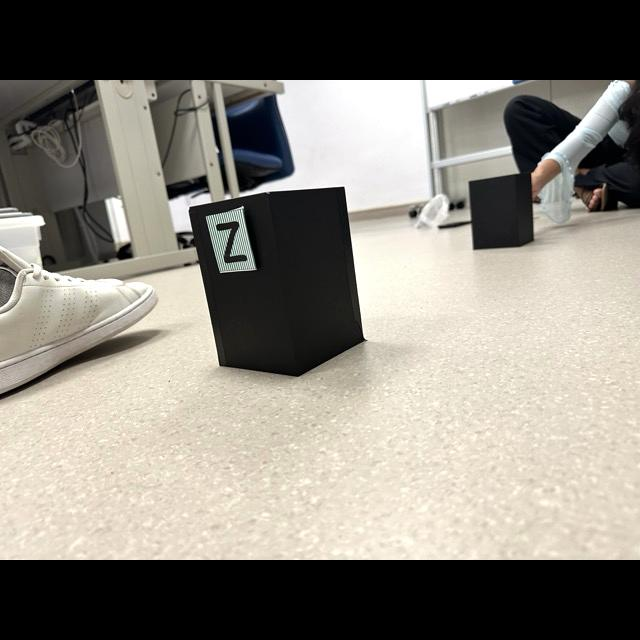Z: (215, 221, 247, 263)
